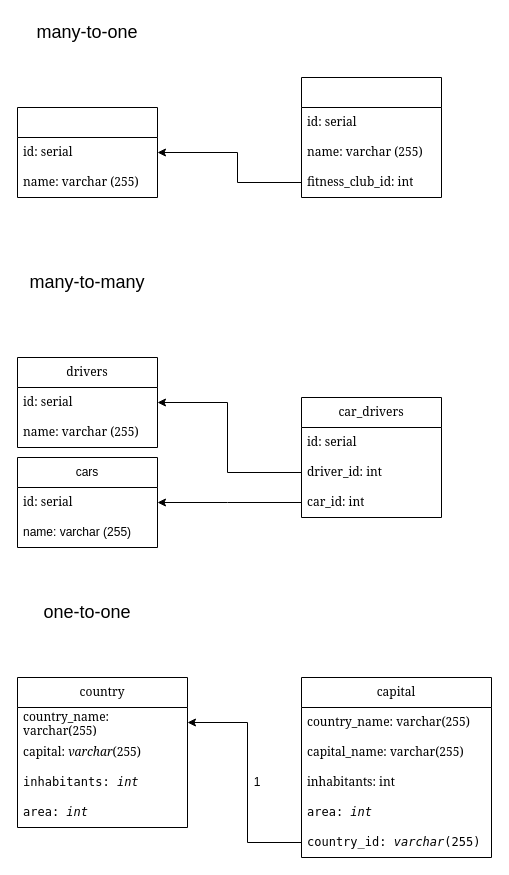
This 509x875 diagram has some shape labels left out. Each missing label, with the box of its shape:
fitnes_club: (16, 106, 158, 198)
sportsman: (300, 76, 442, 198)
